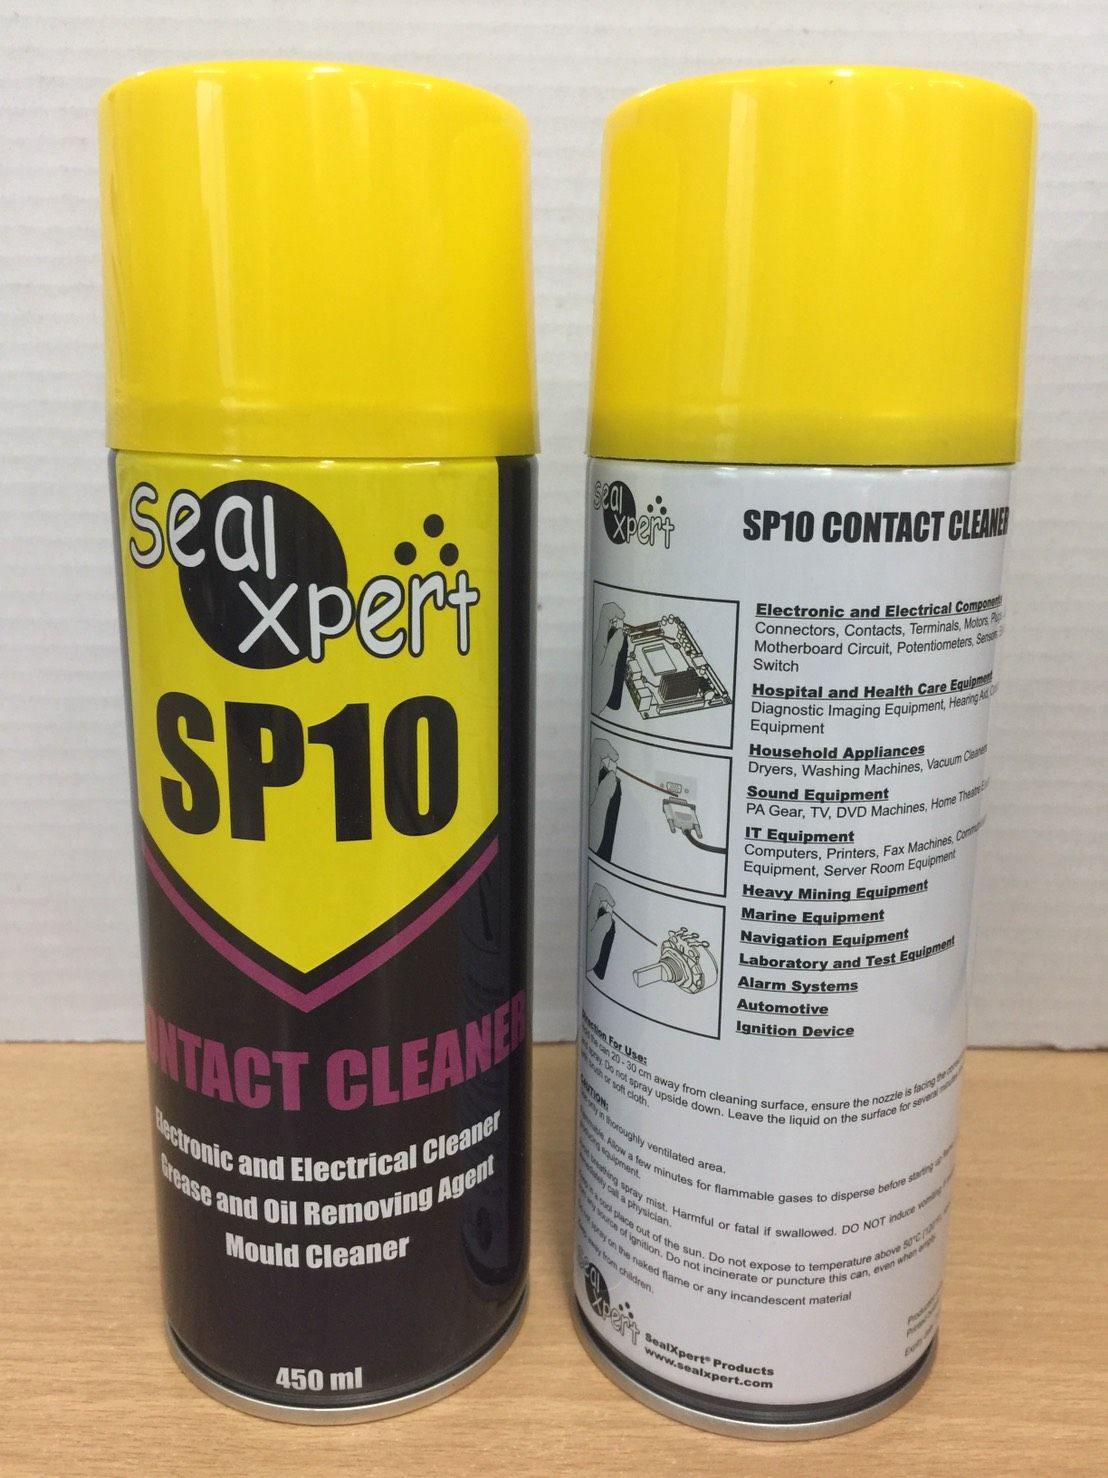Aerosol_cans: (561, 59, 1045, 1445), (91, 54, 545, 1428)
